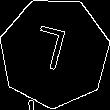L_S: (33, 24, 76, 81)
